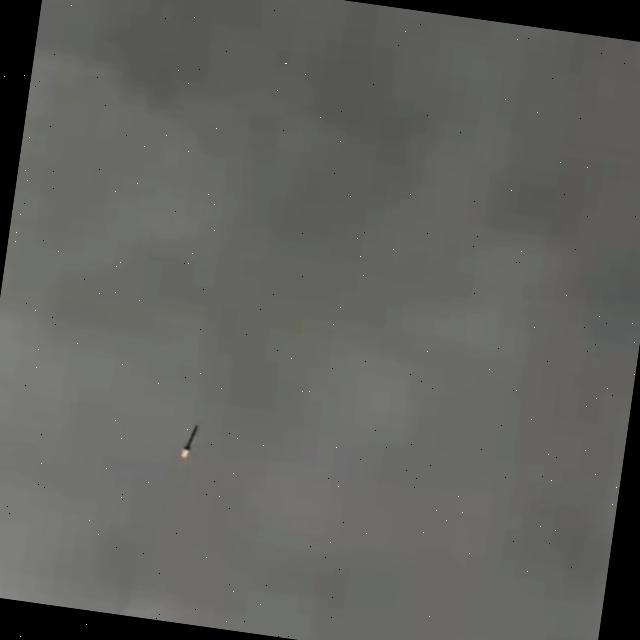rocket: (180, 426, 197, 459)
